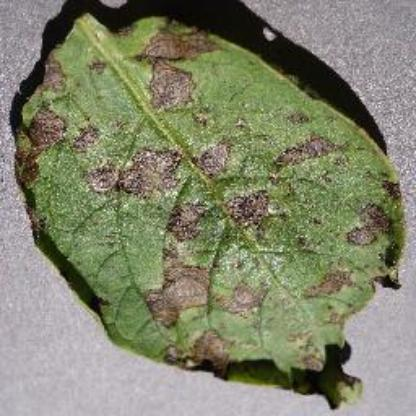Early-Blight: (16, 10, 410, 410)
